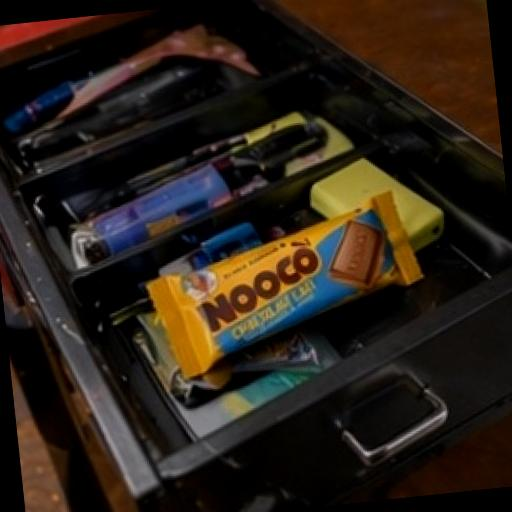nooco: (130, 184, 475, 402)
